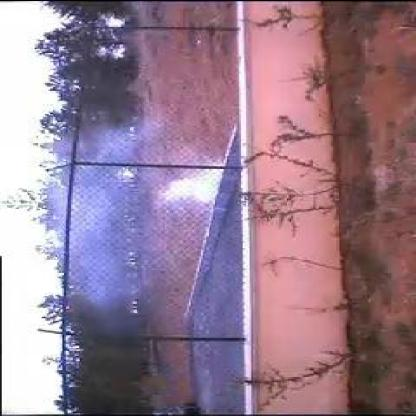-: (66, 150, 224, 288)
